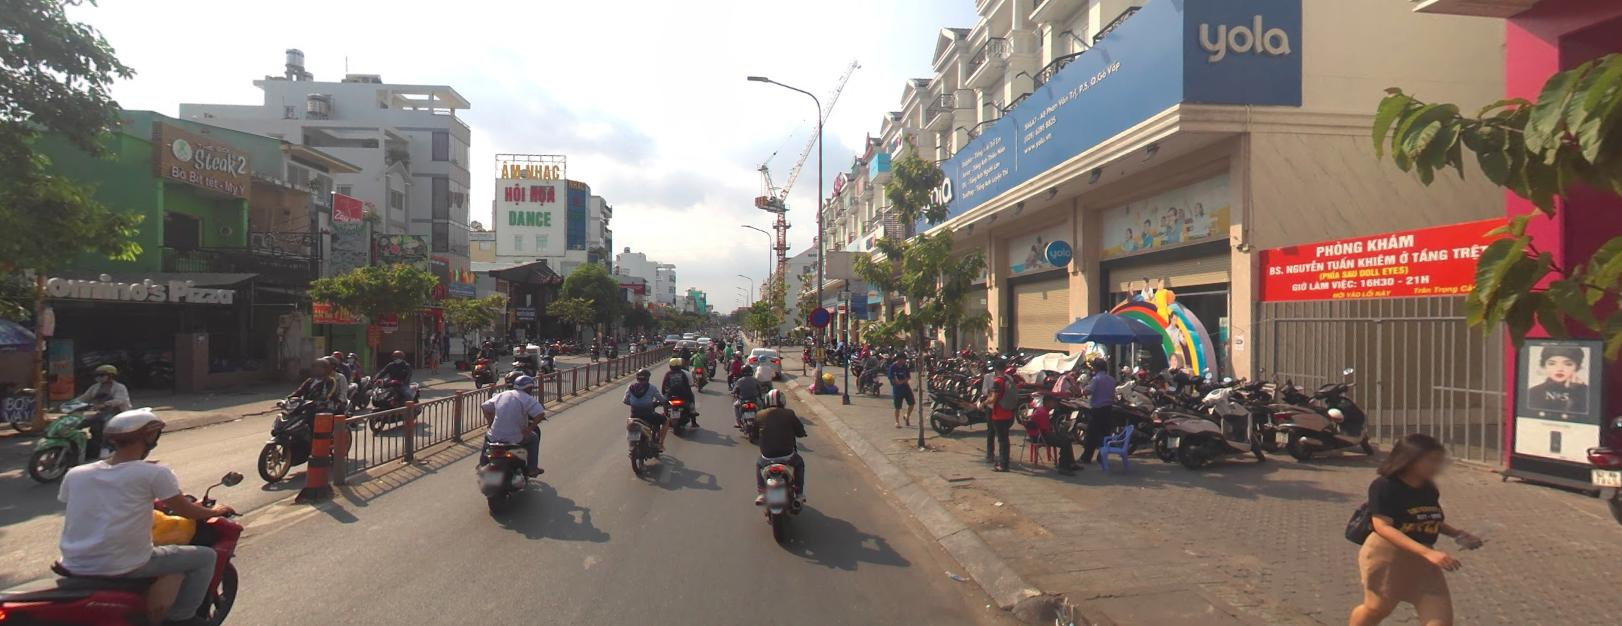Cam dung va do: (810, 305, 830, 325)
